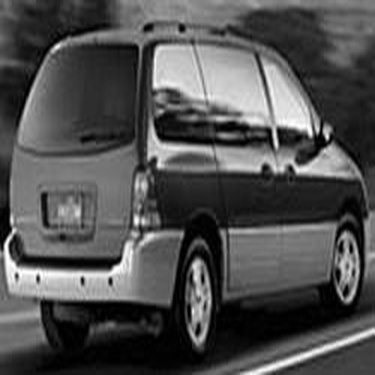car: (2, 15, 369, 367)
